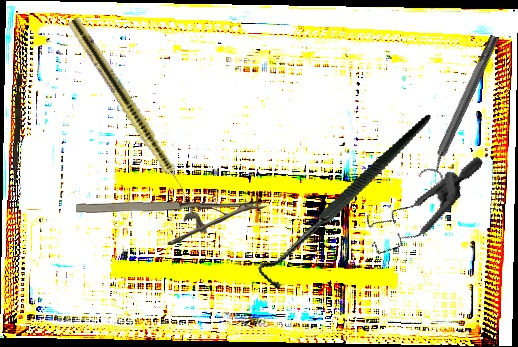Fixation Ring: (417, 31, 508, 187)
Handpiece: (64, 16, 199, 209)
Hook Surgical: (229, 113, 467, 295)
Needle Holder: (75, 198, 268, 247)
Pusher: (12, 73, 23, 185)
Speculum: (355, 127, 484, 278)
